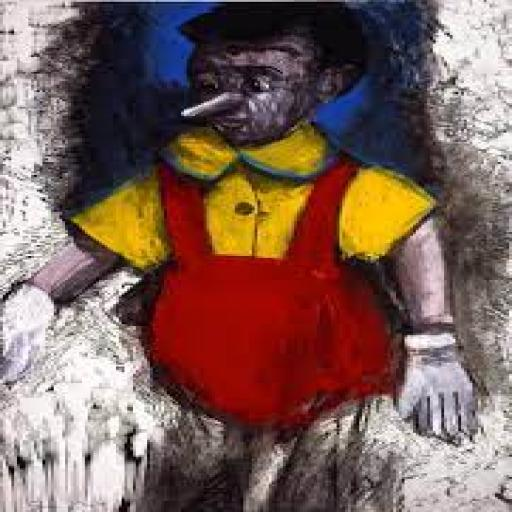person: (24, 0, 482, 512)
